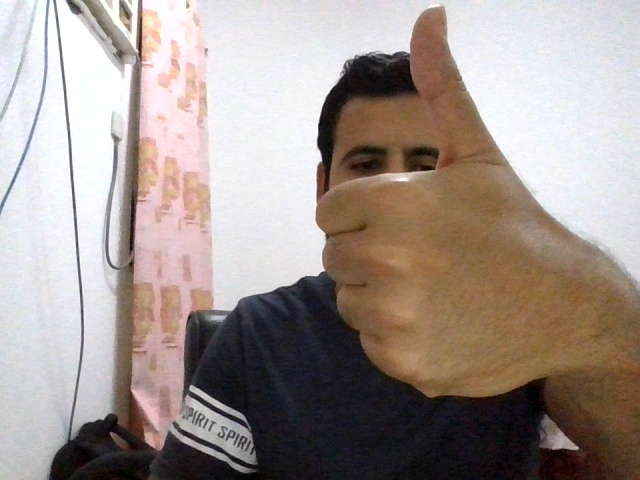One: (314, 6, 569, 398)
